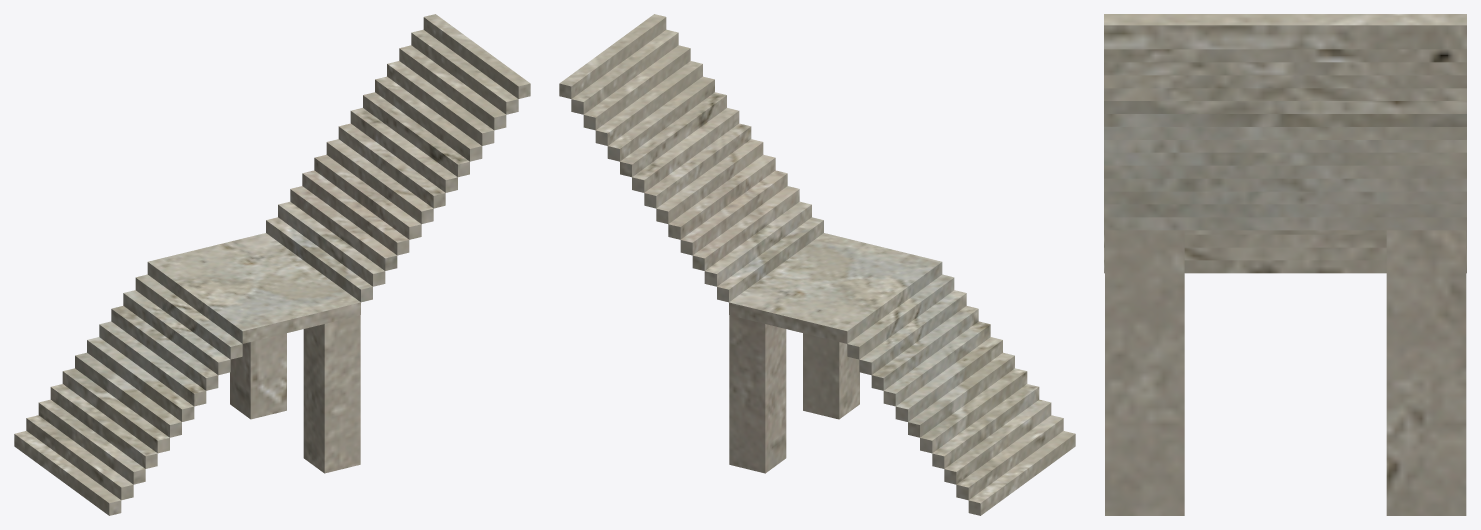
File: ConstructionStairs.fbx
The picture shows the model from 3 angles, left to right: view 1: azimuth 30°, elevation 25°; view 2: azimuth 150°, elevation 25°; view 3: azimuth 270°, elevation 25°; orthographic projection. The views are drawn at different scales.
Visible parts, largest first — view 1: Cube.020; view 2: Cube.020; view 3: Cube.020.
Part boxes in pixels (<box>): Cube.020: <box>14,14,530,515</box>; Cube.020: <box>559,14,1075,515</box>; Cube.020: <box>1104,14,1466,515</box>.
Size of the model in its own units: 1212 by 935 by 474.
1 material, 1 textured.
